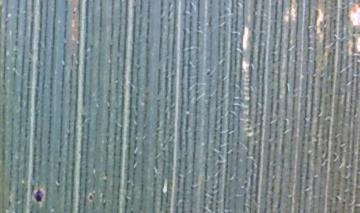tarspot: (30, 185, 45, 204), (86, 191, 94, 202), (205, 69, 212, 77), (71, 9, 78, 15)
